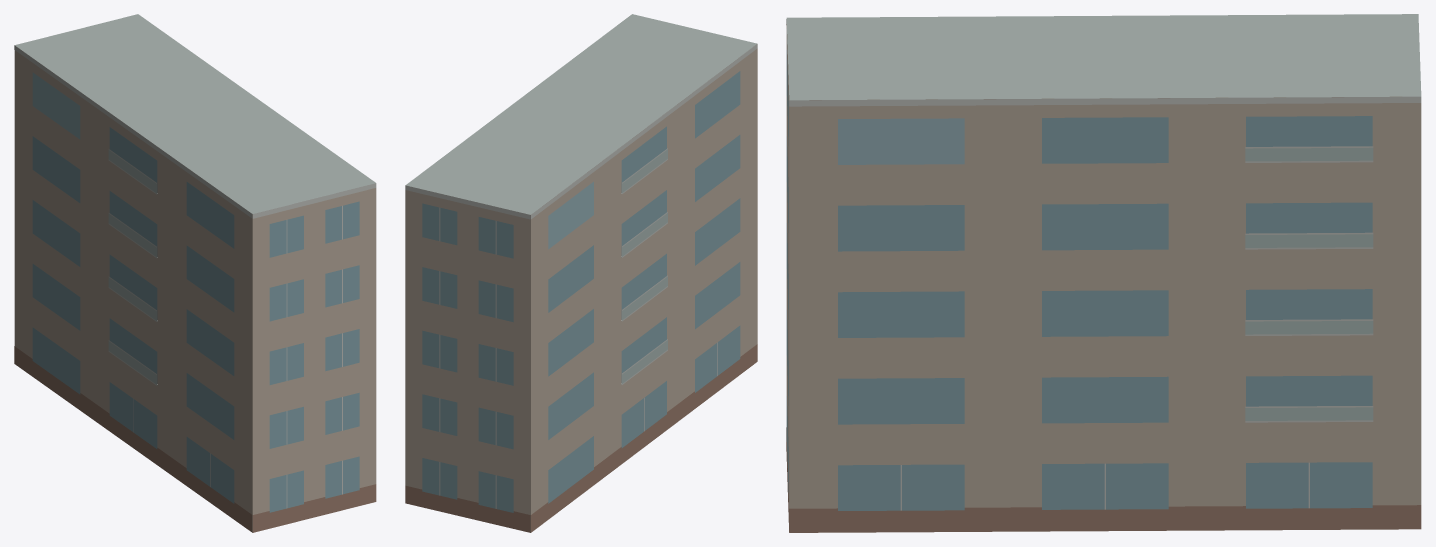
The model's file is survey-upis-32571996.glb.
The picture shows the model from 3 angles, left to right: view 1: azimuth 30°, elevation 25°; view 2: azimuth 150°, elevation 25°; view 3: azimuth 270°, elevation 25°; orthographic projection. The views are drawn at different scales.
Visible parts, largest first — view 1: survey-upis-32571996.tmp; view 2: survey-upis-32571996.tmp; view 3: survey-upis-32571996.tmp.
Boxes of the visible parts, x1=… form: survey-upis-32571996.tmp: x1=14, y1=14, x2=376, y2=532; survey-upis-32571996.tmp: x1=405, y1=14, x2=757, y2=532; survey-upis-32571996.tmp: x1=786, y1=14, x2=1421, y2=532.
Bounding box in the file's own units: 7.15 × 16.7 × 22.22.
